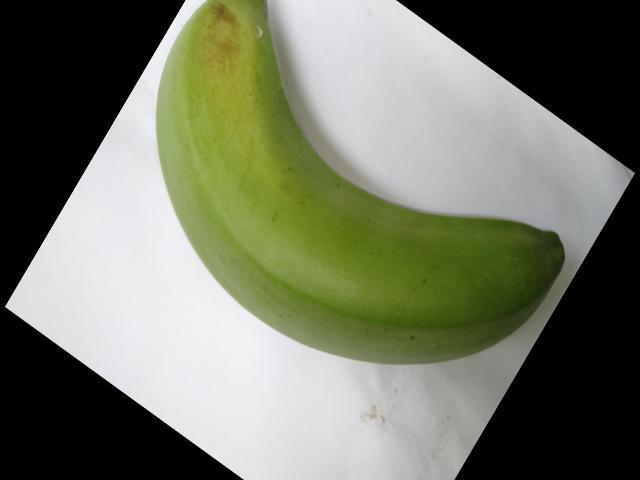freshunripe: (143, 0, 571, 390)
